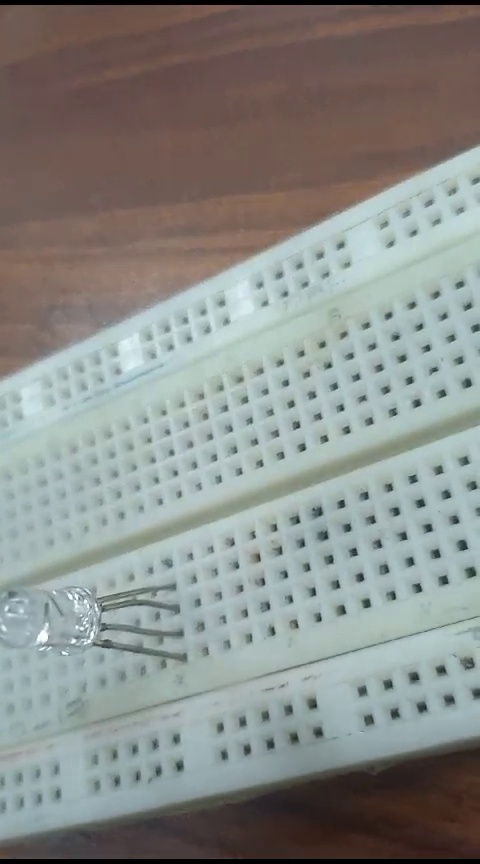LED: (8, 579, 183, 669)
